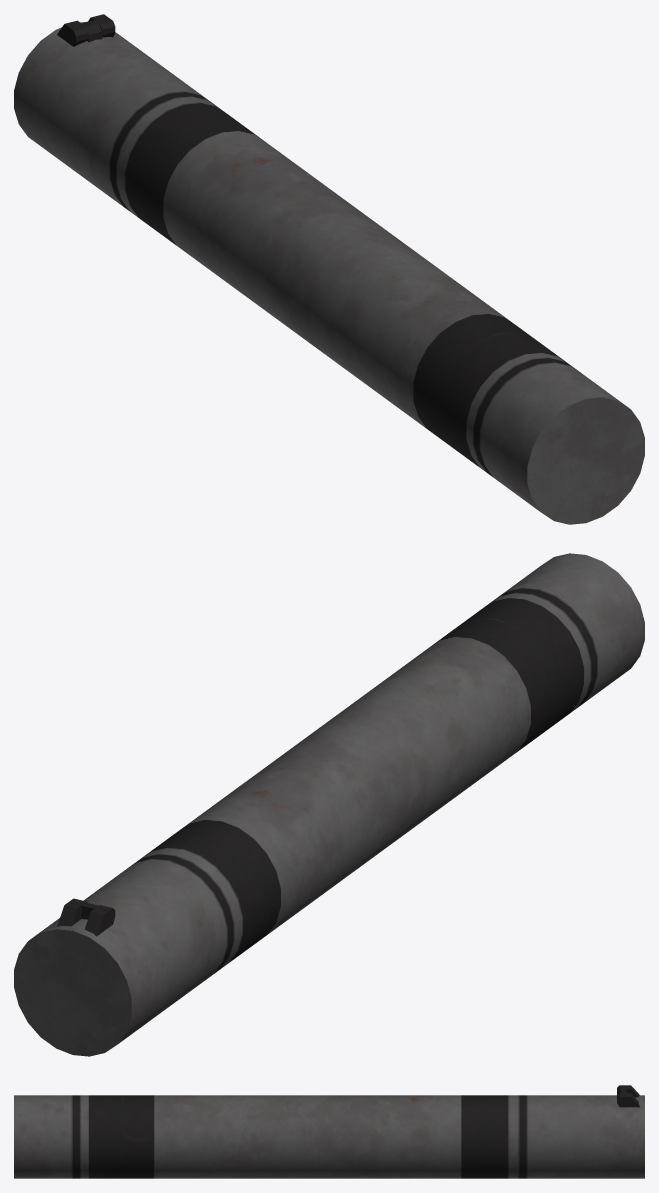
Rendered from launcher_m_2.fbx.
3 renders of one model, top to bottom at view 1: azimuth 30°, elevation 25°; view 2: azimuth 150°, elevation 25°; view 3: azimuth 270°, elevation 25°, orthographic. The views are drawn at different scales.
Visible parts, largest first — view 1: launcher_m_2, launcher_m_2C; view 2: launcher_m_2, launcher_m_2C; view 3: launcher_m_2, launcher_m_2C.
Part boxes in pixels (left/top/right/bottom): launcher_m_2: left=29, top=20, right=644, bottom=524; launcher_m_2C: left=14, top=14, right=131, bottom=147; launcher_m_2: left=45, top=553, right=644, bottom=1032; launcher_m_2C: left=14, top=898, right=146, bottom=1056; launcher_m_2: left=14, top=1089, right=626, bottom=1178; launcher_m_2C: left=617, top=1085, right=644, bottom=1178.
Size of the model in its own units: 1.78 by 1.98 by 13.48.
